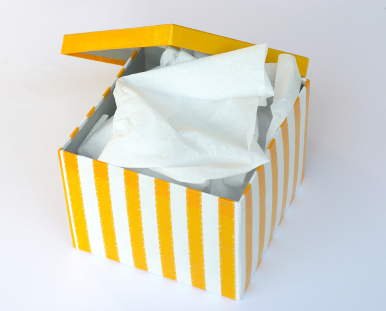Tissue: (104, 43, 275, 187)
